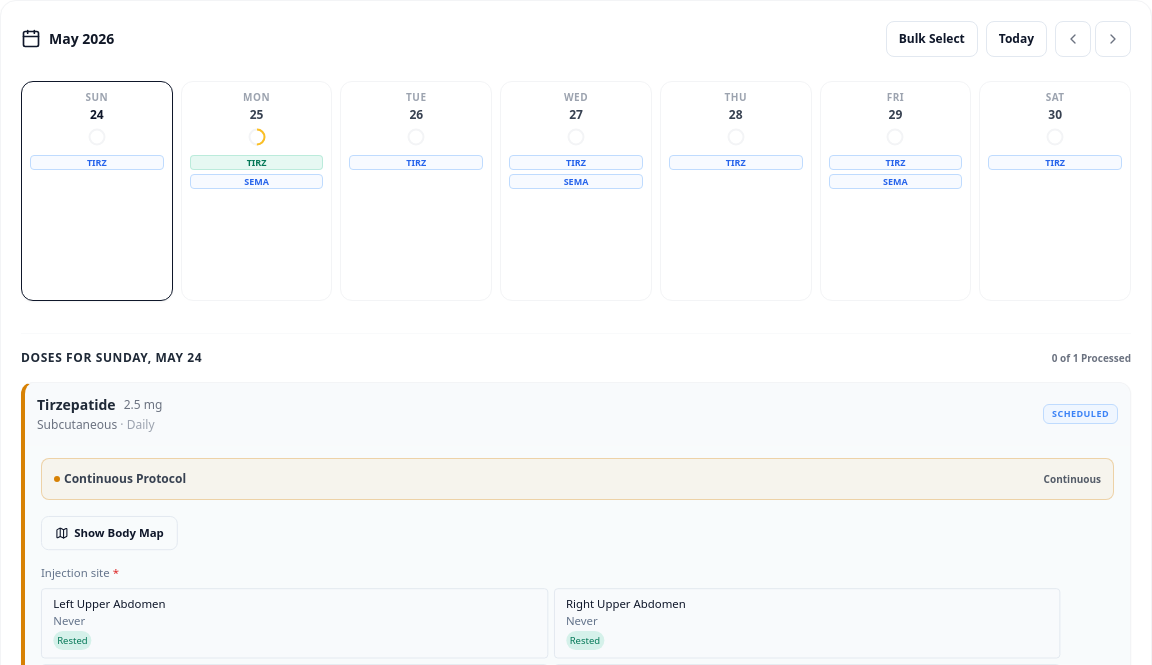
TrackerCalendar Component UI/UX with JSDOM › shows logged dose amount as mcg plus syringe units when available
Click the button with aria-label "May 25": x=257, y=191 [181, 81, 332, 301]
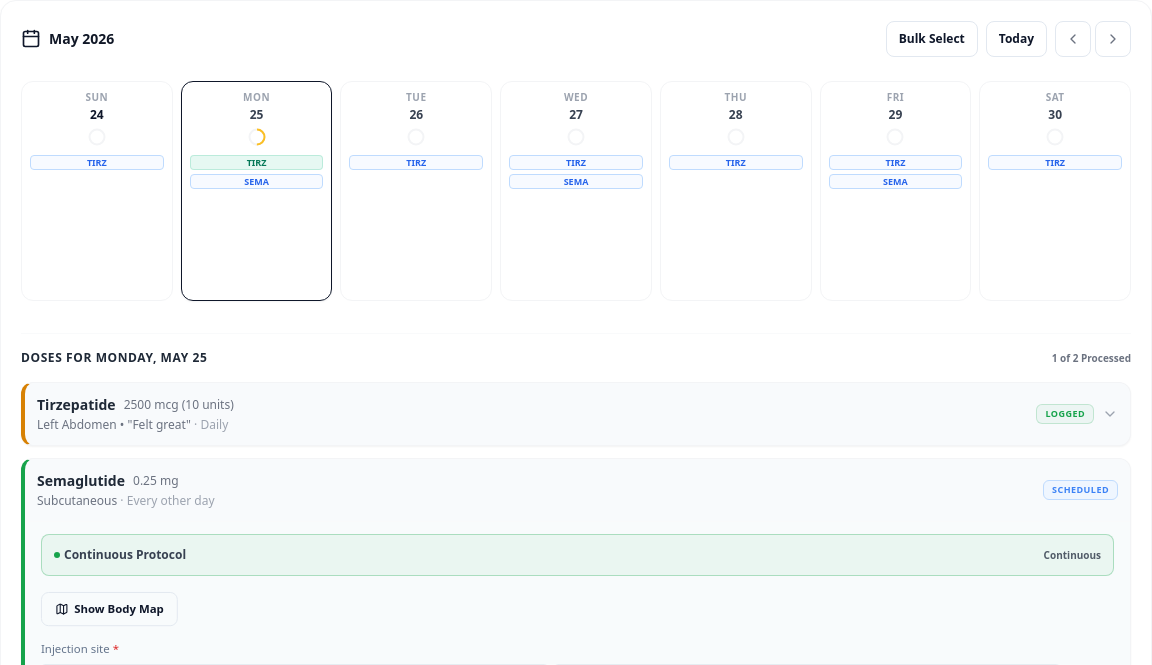
Result: the text "2500 mcg (10 units)" is shown at [124, 397, 234, 413]
Result: the text "2.5 mg" is gone
